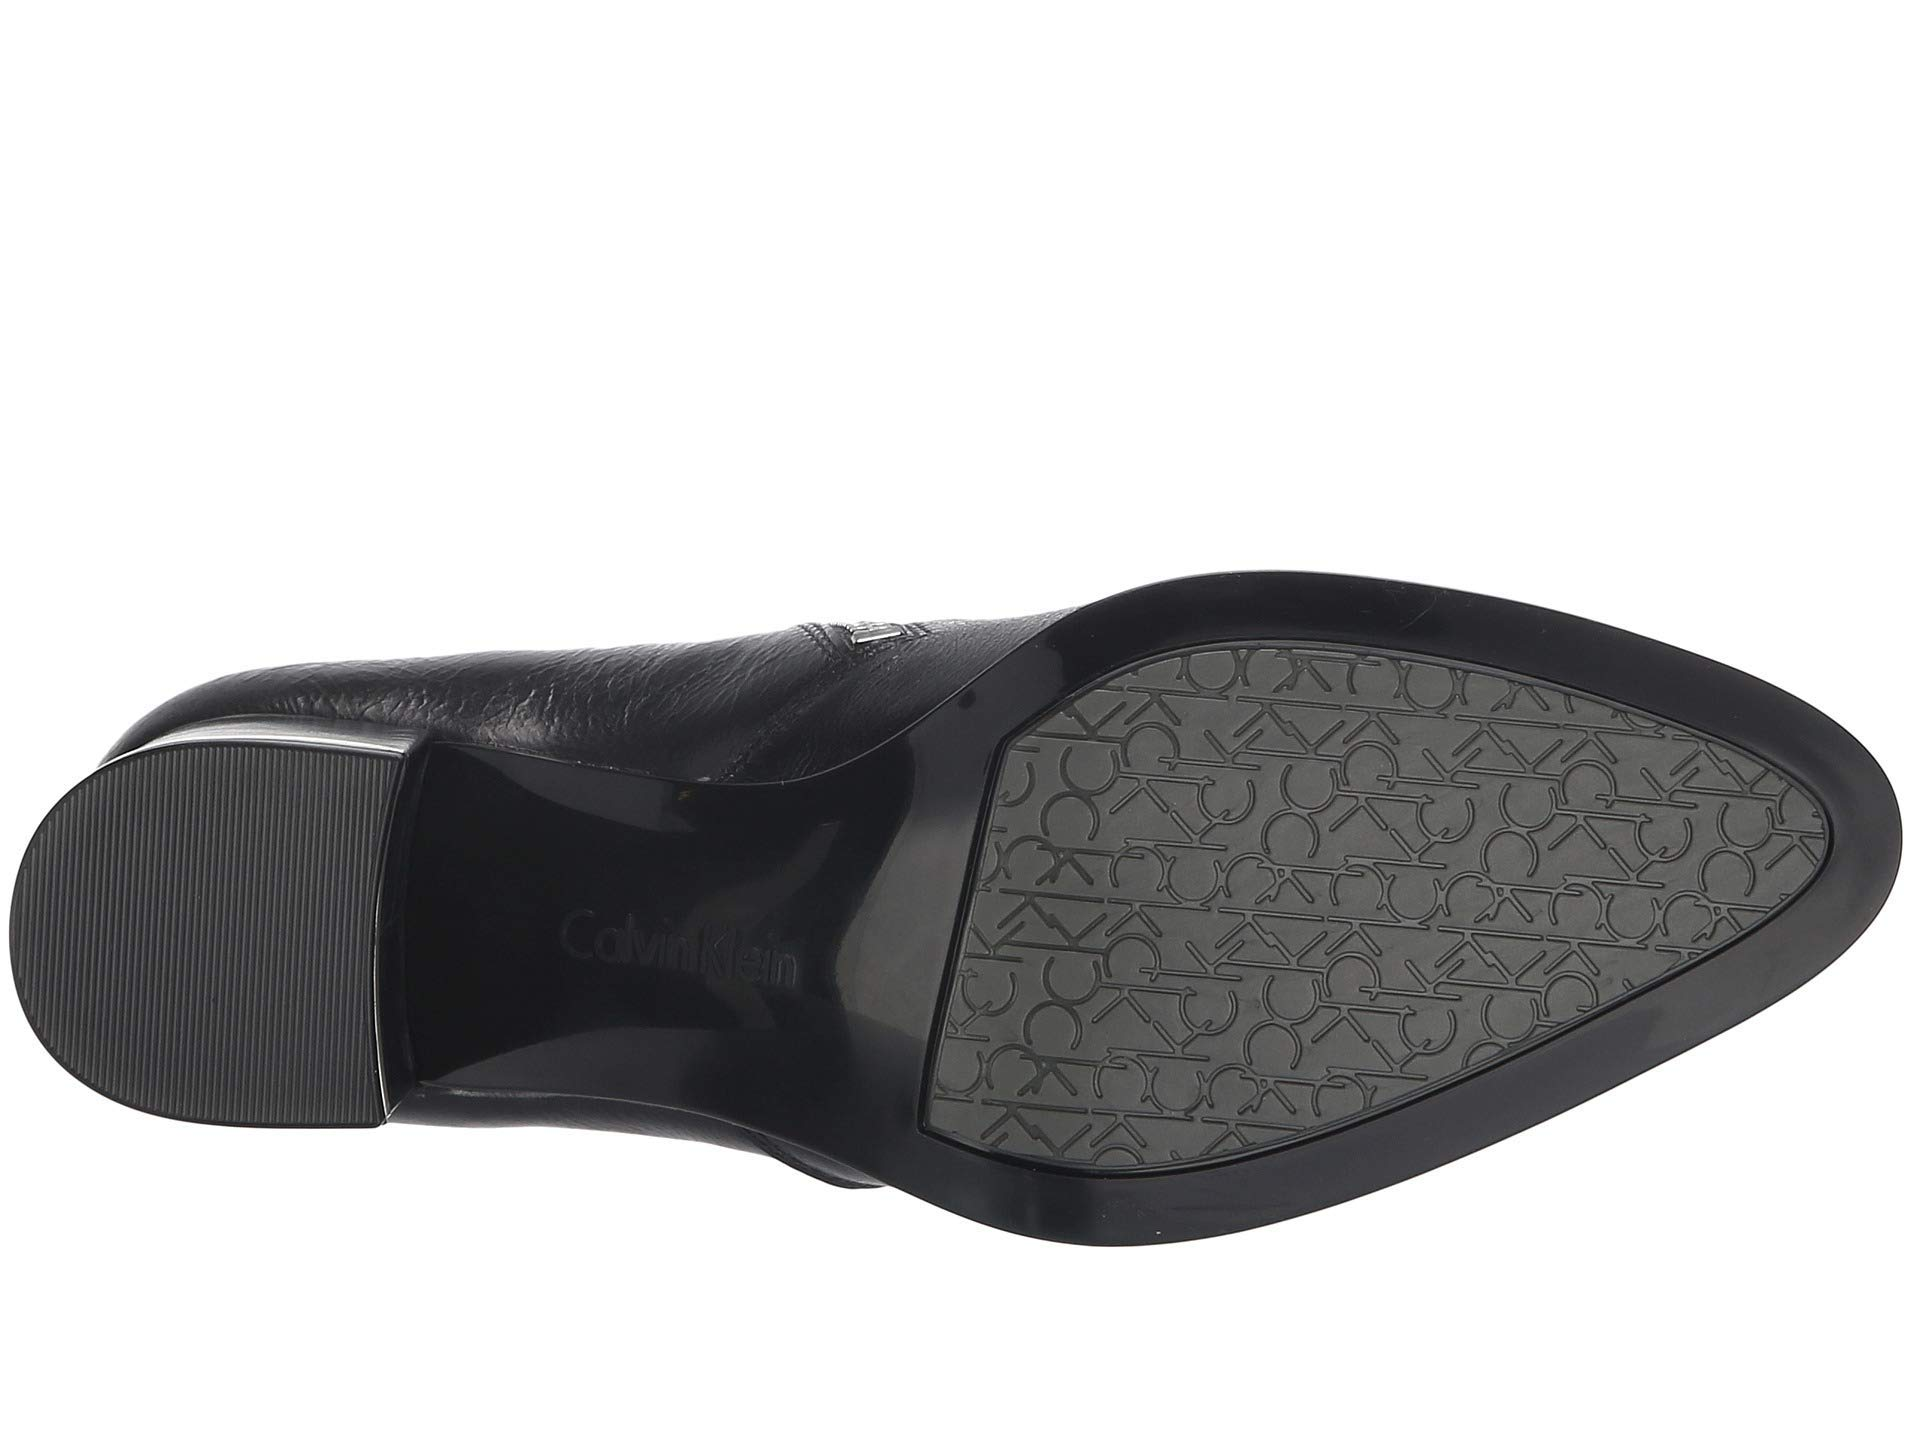exclude: (444, 620, 884, 1231)
line: (1095, 699, 1547, 1035), (79, 799, 333, 1060)
text: (1095, 699, 1547, 1035)
